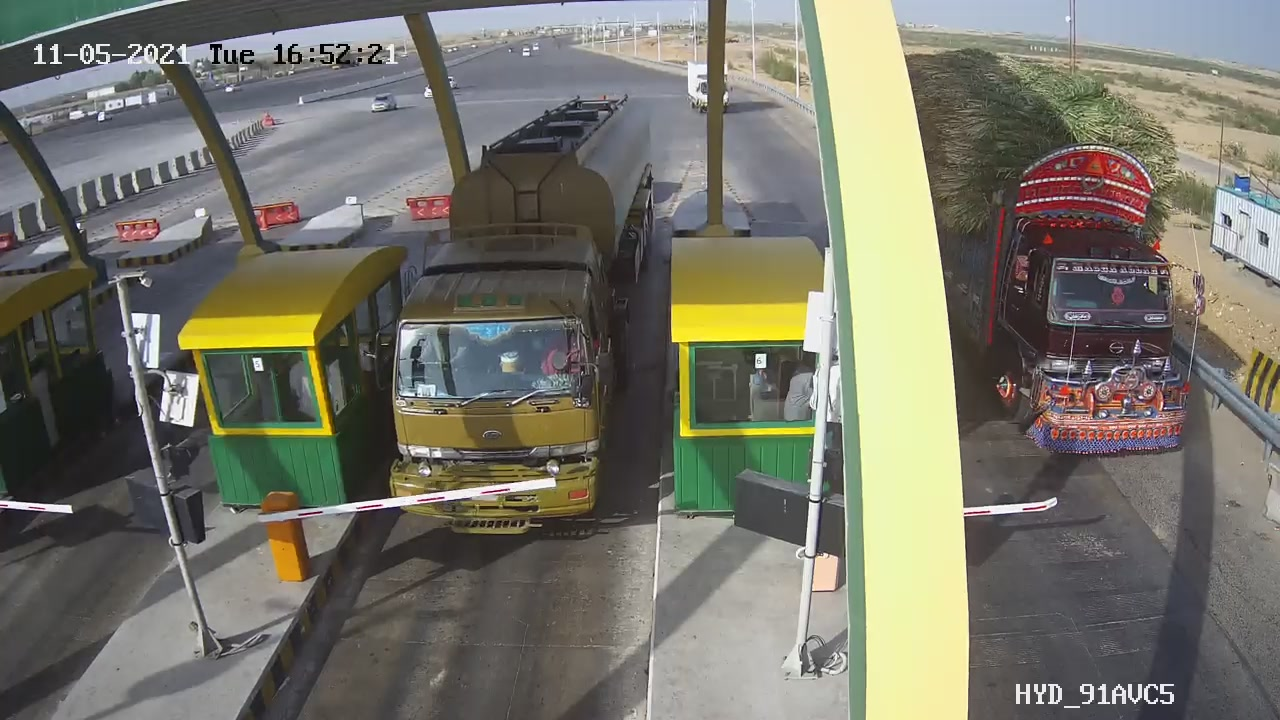F6: (346, 76, 687, 559)
